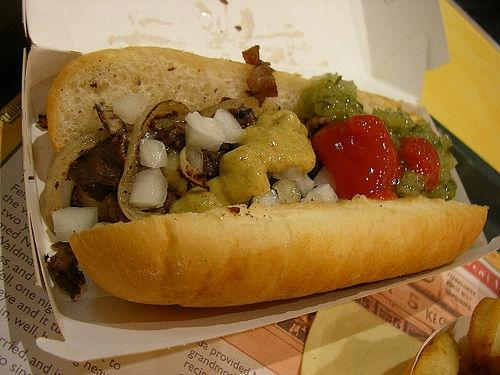onion: (117, 99, 193, 222), (154, 99, 244, 130), (184, 108, 243, 152), (52, 207, 98, 242), (130, 168, 168, 210), (179, 146, 210, 192), (160, 148, 188, 192), (112, 92, 150, 124), (94, 102, 127, 136), (32, 132, 54, 182), (139, 138, 169, 170), (272, 178, 301, 204), (312, 165, 336, 192), (310, 184, 338, 202), (252, 189, 280, 206), (295, 174, 315, 197), (188, 147, 204, 174), (62, 180, 75, 208), (281, 167, 305, 182)
